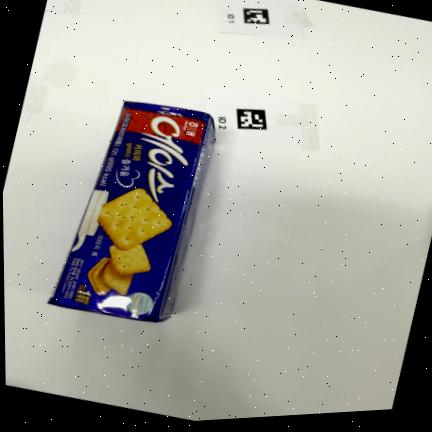cracker_ace: (48, 101, 214, 322)
